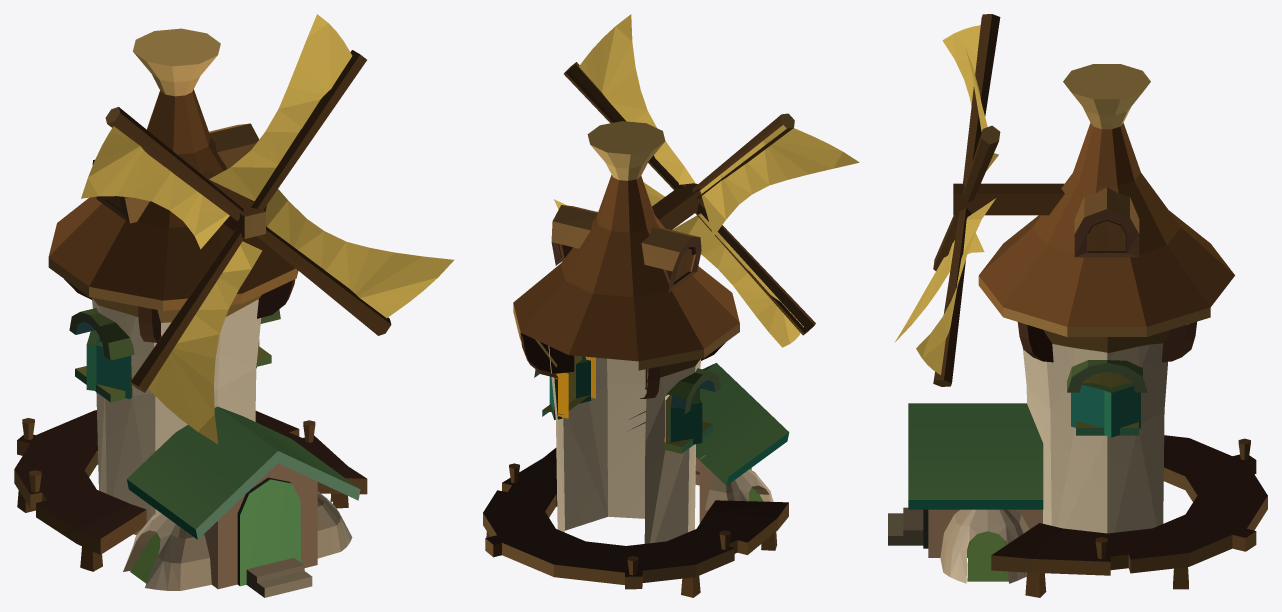
Rendered from building13.fbx.
The picture shows the model from 3 angles, left to right: view 1: azimuth 30°, elevation 25°; view 2: azimuth 150°, elevation 25°; view 3: azimuth 270°, elevation 25°; orthographic projection. The views are drawn at different scales.
Visible parts, largest first — view 1: building13; view 2: building13; view 3: building13.
Boxes of the visible parts, bbox=[...] form: building13: bbox=[14, 14, 453, 597]; building13: bbox=[483, 14, 859, 597]; building13: bbox=[888, 14, 1267, 597].
Bounding box in the file's own units: 2.07 × 2.93 × 1.93.
Materials: 1 (1 with a texture image).
